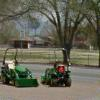Tractor: (6, 45, 77, 95)
